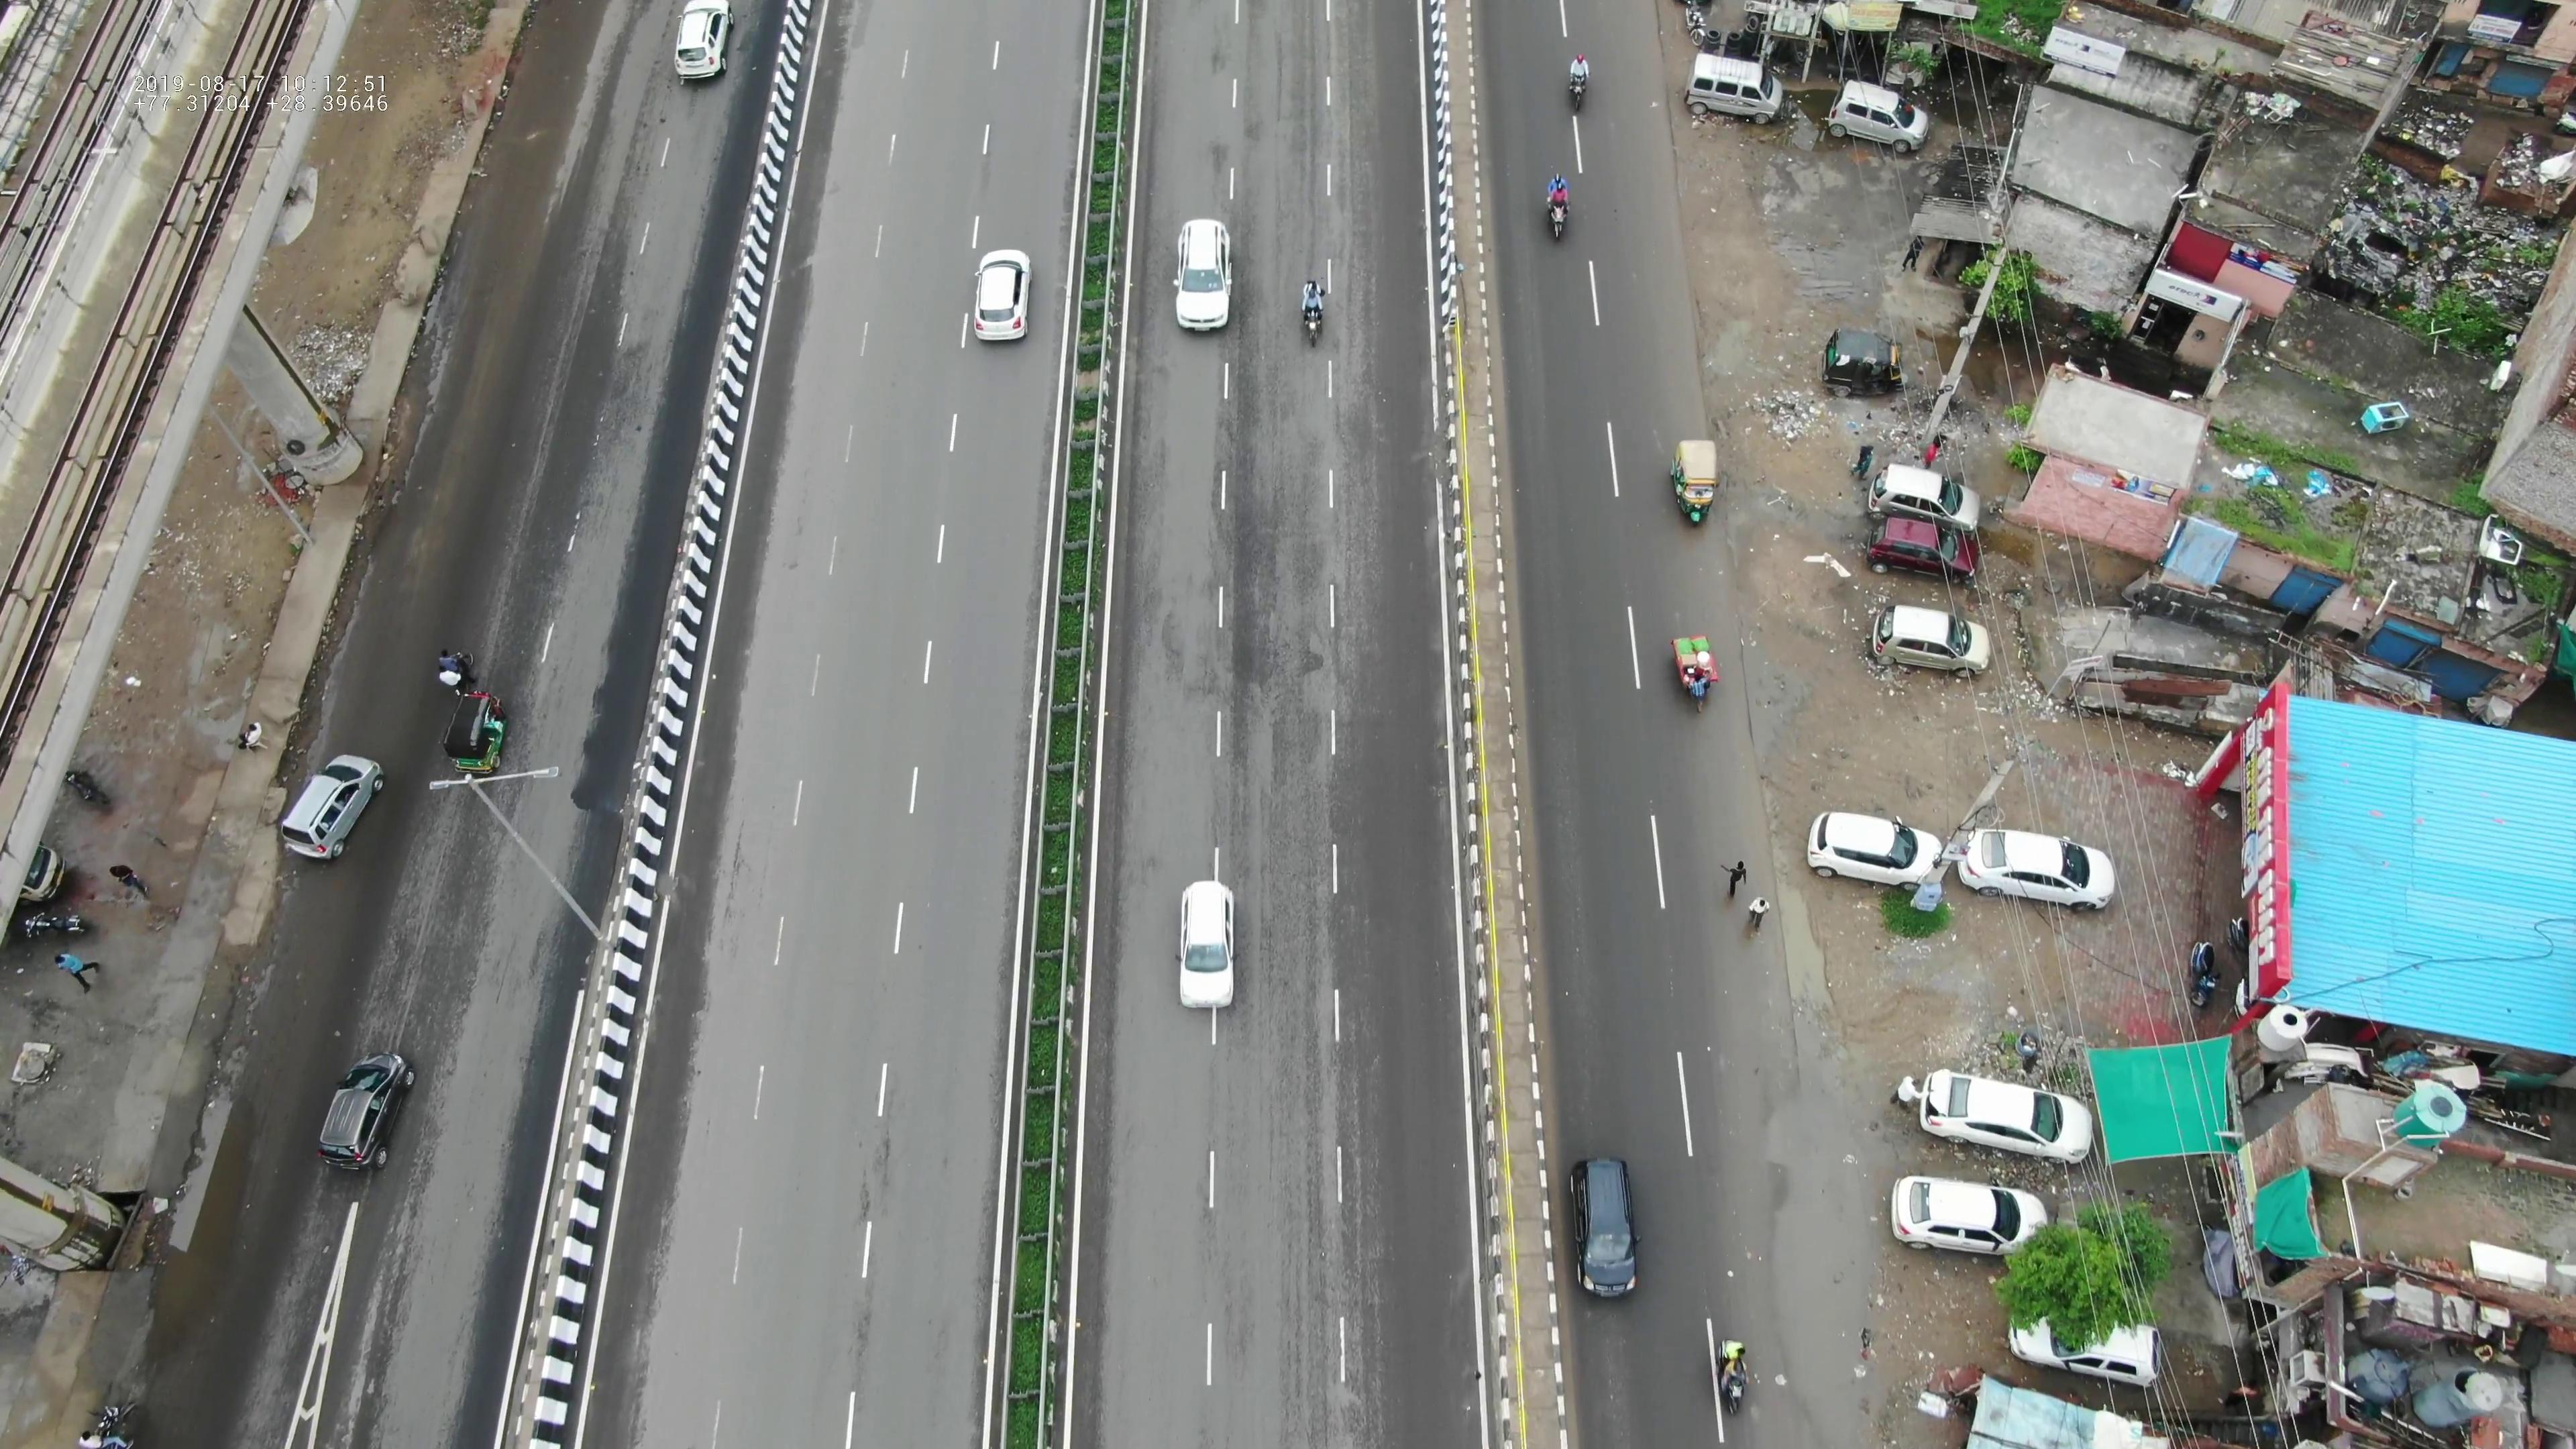Waterlogging: (1769, 1118, 1861, 1414)
